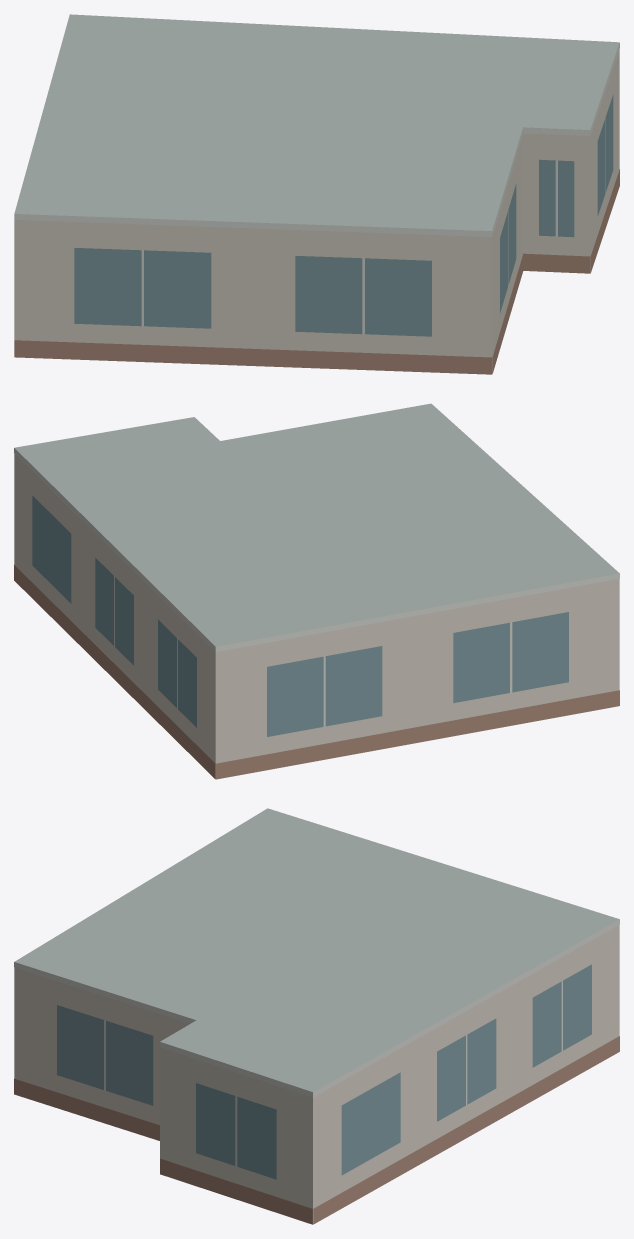
The model's file is survey-upis-32799673.glb.
3 renders of one model, top to bottom at view 1: azimuth 30°, elevation 25°; view 2: azimuth 150°, elevation 25°; view 3: azimuth 270°, elevation 25°, orthographic. The views are drawn at different scales.
Parts seen in each view (by area): view 1: survey-upis-32799673.tmp; view 2: survey-upis-32799673.tmp; view 3: survey-upis-32799673.tmp.
Part boxes in pixels (<box>): survey-upis-32799673.tmp: <box>14,14,619,374</box>; survey-upis-32799673.tmp: <box>14,403,619,779</box>; survey-upis-32799673.tmp: <box>14,808,619,1224</box>.
Size of the model in its own units: 14.03 by 3.05 by 12.65.
